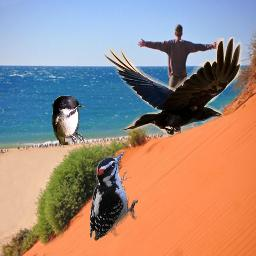Crow: (102, 37, 243, 136)
Swallow: (51, 94, 85, 145)
Woodpecker: (90, 151, 138, 241)
